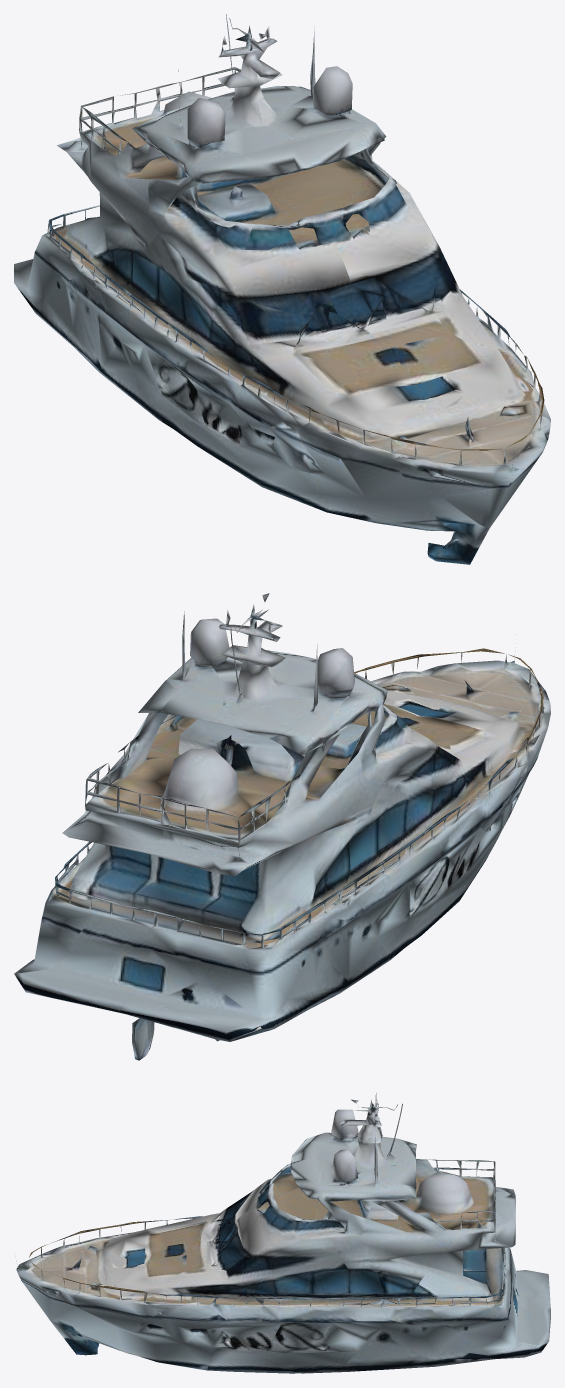
Rendered from yacht-one.glb.
3 views of the same model, one above another, from view 1: azimuth 30°, elevation 25°; view 2: azimuth 150°, elevation 25°; view 3: azimuth 270°, elevation 25° (orthographic). The views are drawn at different scales.
Visible parts, largest first — view 1: tripo_node_40bd88b0-7223-4844-98bd-2be34997dbdc; view 2: tripo_node_40bd88b0-7223-4844-98bd-2be34997dbdc; view 3: tripo_node_40bd88b0-7223-4844-98bd-2be34997dbdc.
Boxes of the visible parts, bbox=[...] form: tripo_node_40bd88b0-7223-4844-98bd-2be34997dbdc: bbox=[14, 14, 550, 564]; tripo_node_40bd88b0-7223-4844-98bd-2be34997dbdc: bbox=[14, 593, 550, 1060]; tripo_node_40bd88b0-7223-4844-98bd-2be34997dbdc: bbox=[16, 1093, 550, 1373].
Size of the model in its own units: 0.3723 by 0.5144 by 0.9791.
Materials: 1 (1 with a texture image).
